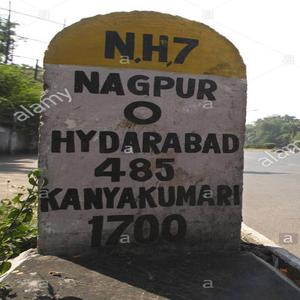kmstone: (32, 7, 248, 263)
